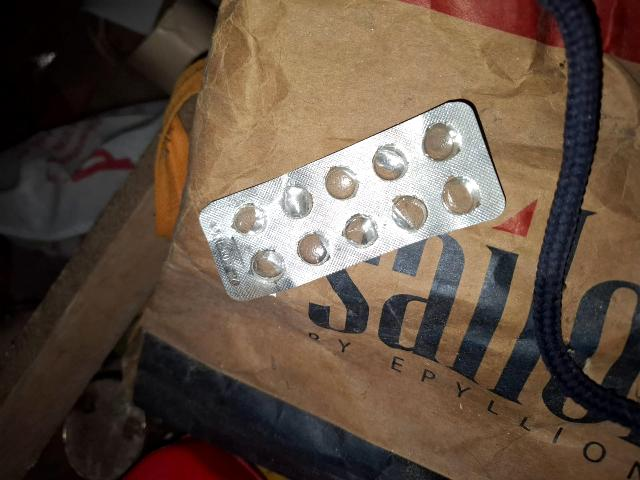medicine: (191, 85, 519, 331)
